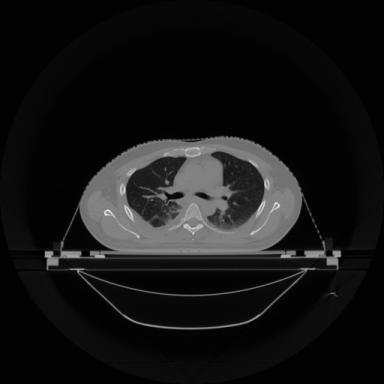body: (80, 136, 302, 252)
cord: (183, 203, 203, 237)
paru kanan: (126, 158, 186, 227)
paru kiri: (208, 152, 264, 229)
